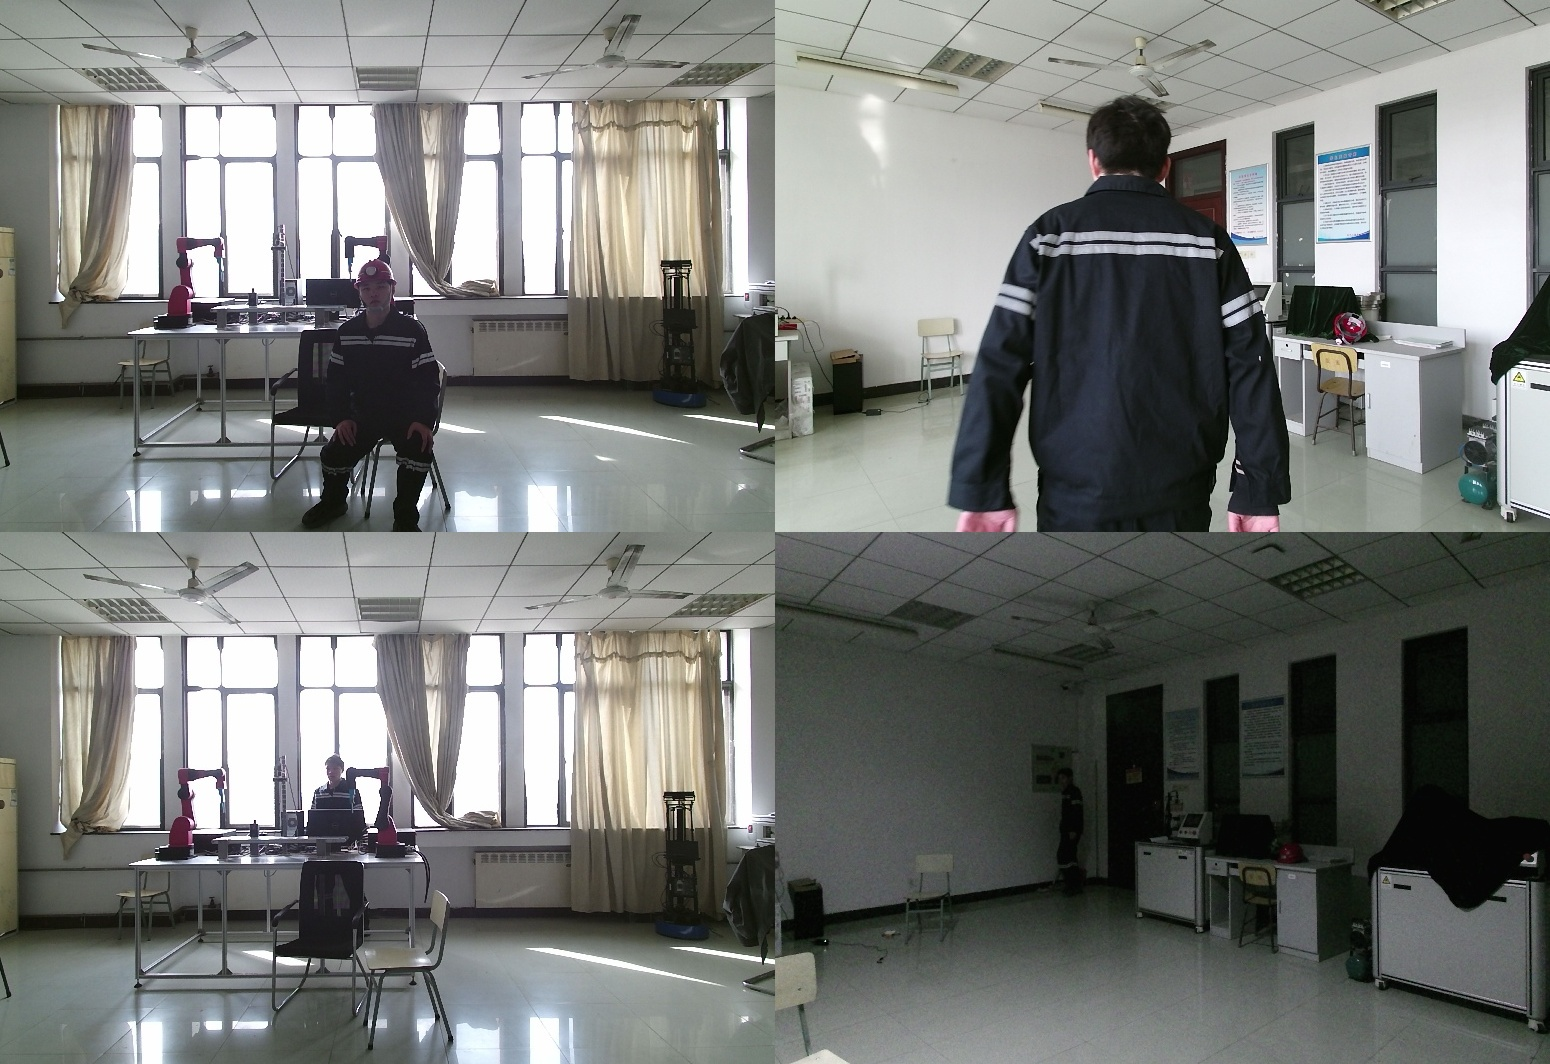person: (945, 94, 1291, 532), (308, 260, 455, 532), (303, 755, 369, 833), (1049, 768, 1086, 901)
